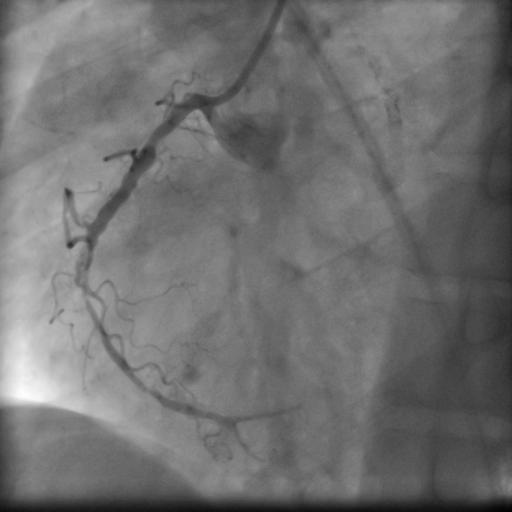Stenosis: (146, 123, 169, 154)
